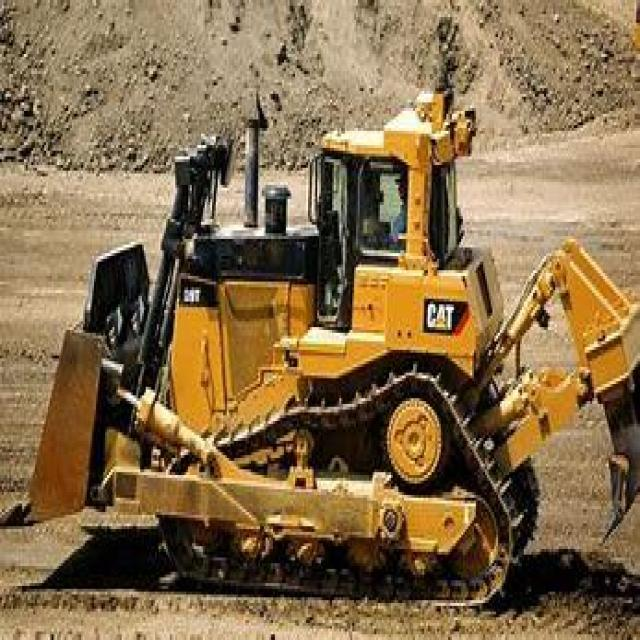buldozerpayloadergrader: (7, 82, 638, 608)
